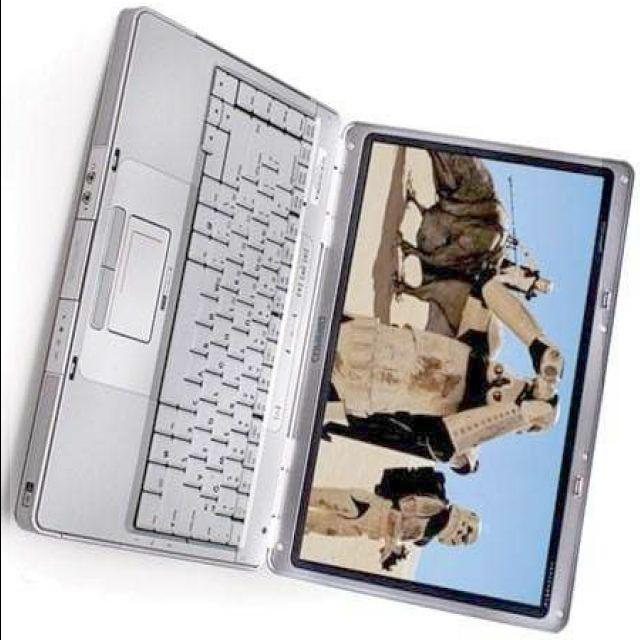-keyboard-: (10, 0, 602, 640)
